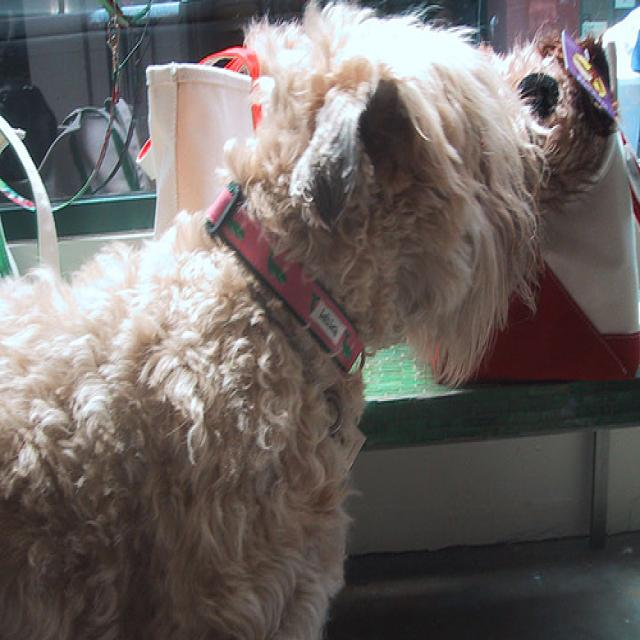dog: (248, 22, 530, 335)
